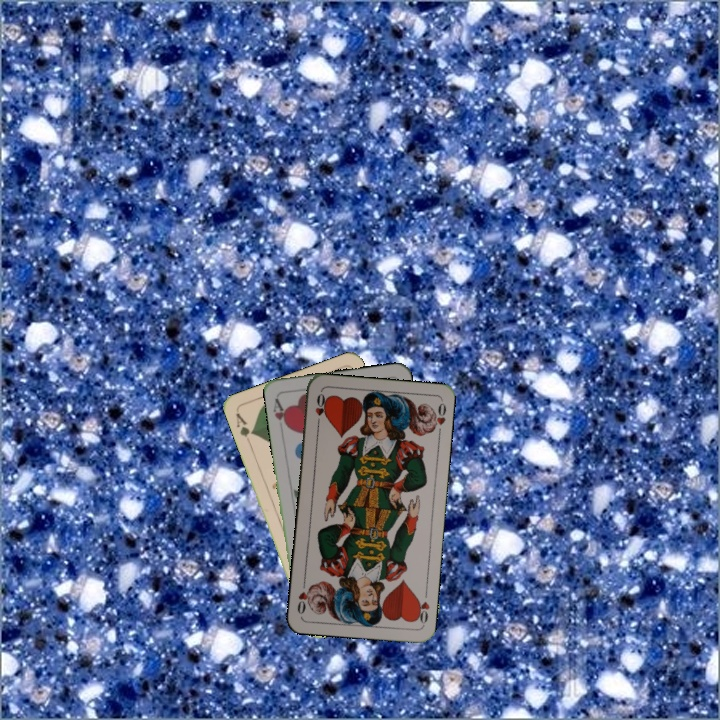GA: (232, 409, 257, 447)
HA: (269, 394, 292, 432)
HO: (412, 587, 432, 627), (311, 389, 329, 429)
